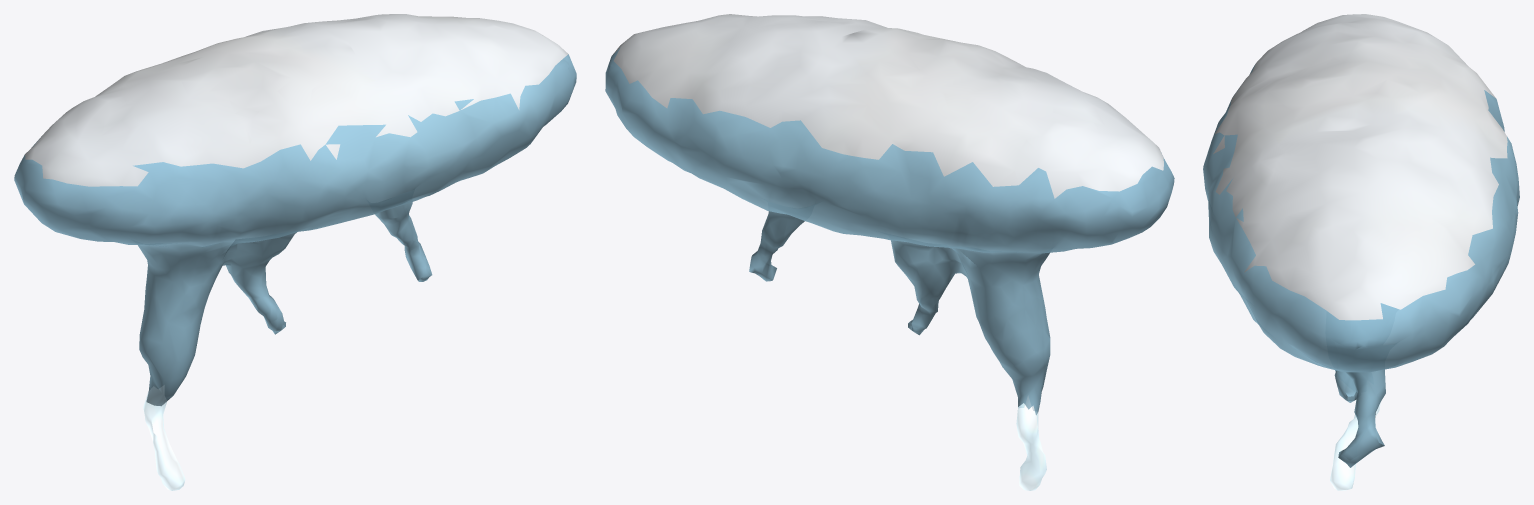
File: frost_icicle_cluster_c.glb
3 views of the same model, side by side, from view 1: azimuth 30°, elevation 25°; view 2: azimuth 150°, elevation 25°; view 3: azimuth 270°, elevation 25° (orthographic). The views are drawn at different scales.
Visible parts, largest first — view 1: frost_icicle_cluster_c; view 2: frost_icicle_cluster_c; view 3: frost_icicle_cluster_c.
Part boxes in pixels (x1=…): frost_icicle_cluster_c: x1=14, y1=14, x2=576, y2=490; frost_icicle_cluster_c: x1=605, y1=14, x2=1174, y2=490; frost_icicle_cluster_c: x1=1203, y1=14, x2=1519, y2=490.
Bounding box in the file's own units: 6.98 × 5 × 3.1.
